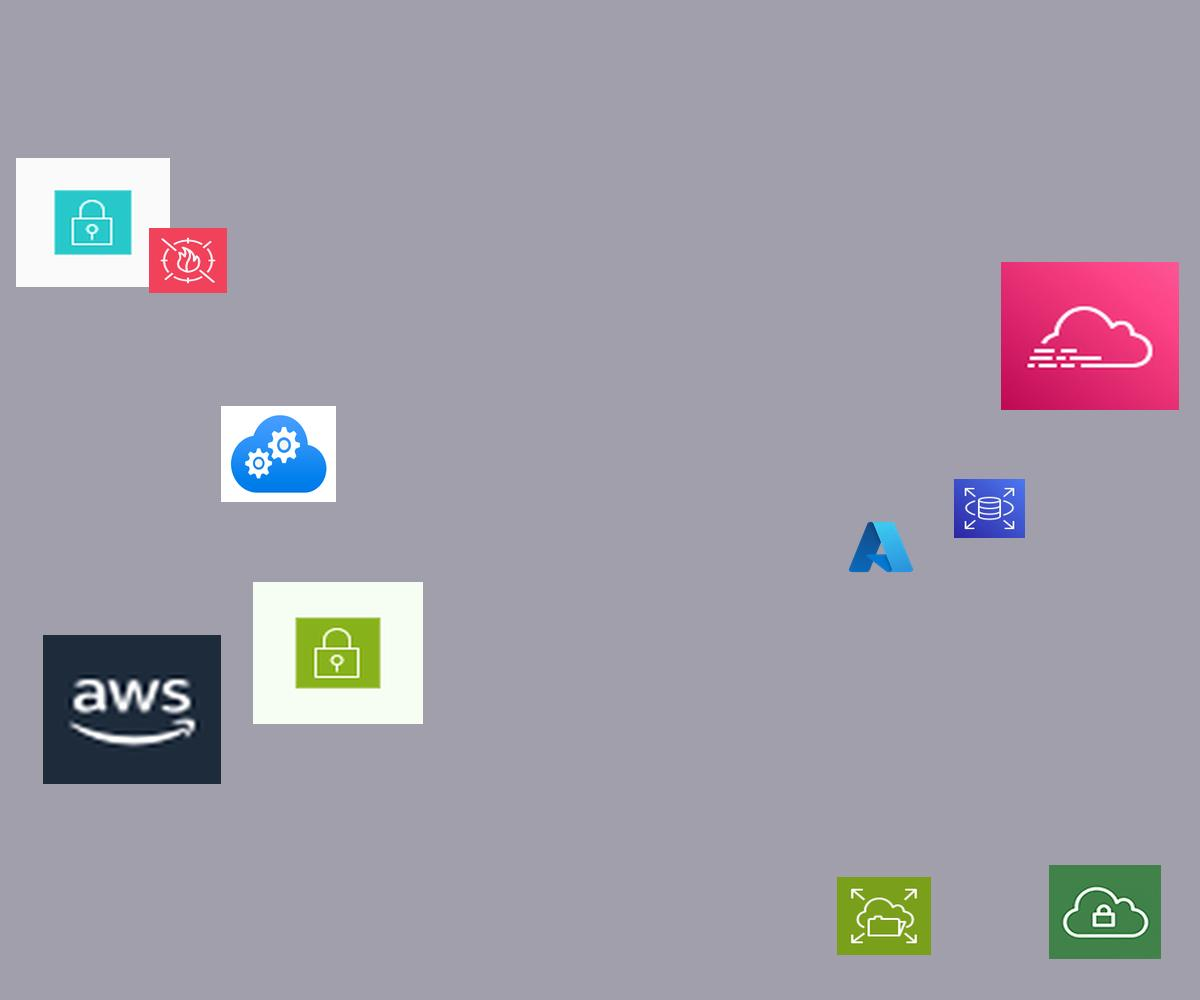AWS-Cloud-logo: (43, 635, 221, 784)
AWS-CloudTrail: (1001, 262, 1179, 410)
AWS-EFS: (837, 877, 931, 955)
AWS-Private-subnet: (16, 158, 170, 287)
AWS-Private_vpc: (1049, 865, 1161, 959)
AWS-Public-subnet: (253, 582, 423, 724)
AWS-RDS: (954, 479, 1025, 538)
AWS-WAF: (149, 228, 227, 293)
Azure_cloud_services: (221, 406, 336, 502)
Azure_services: (846, 518, 916, 576)
